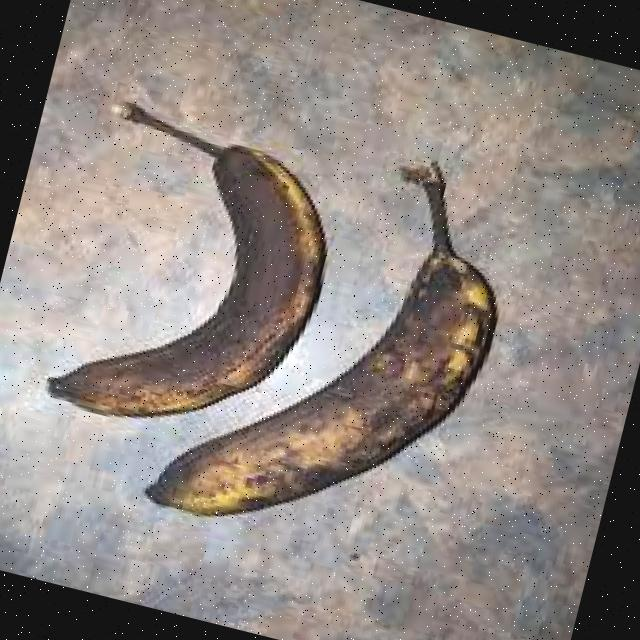Rotten: (120, 100, 580, 620), (0, 65, 367, 464)
